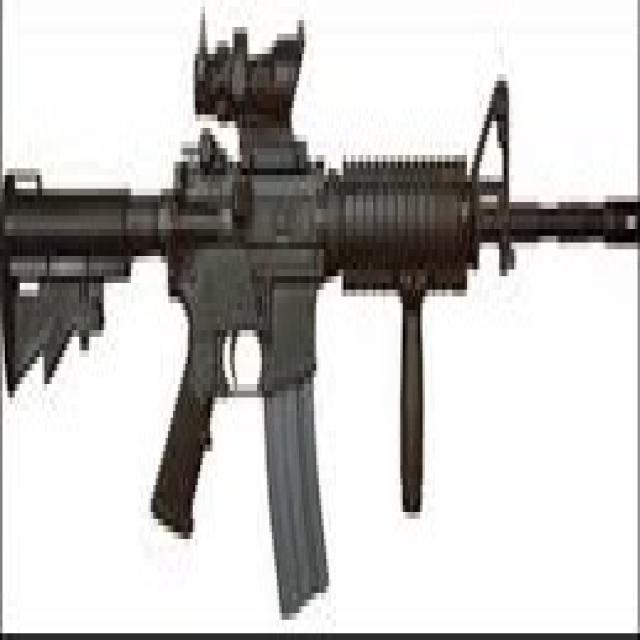rifle: (1, 2, 640, 640)
